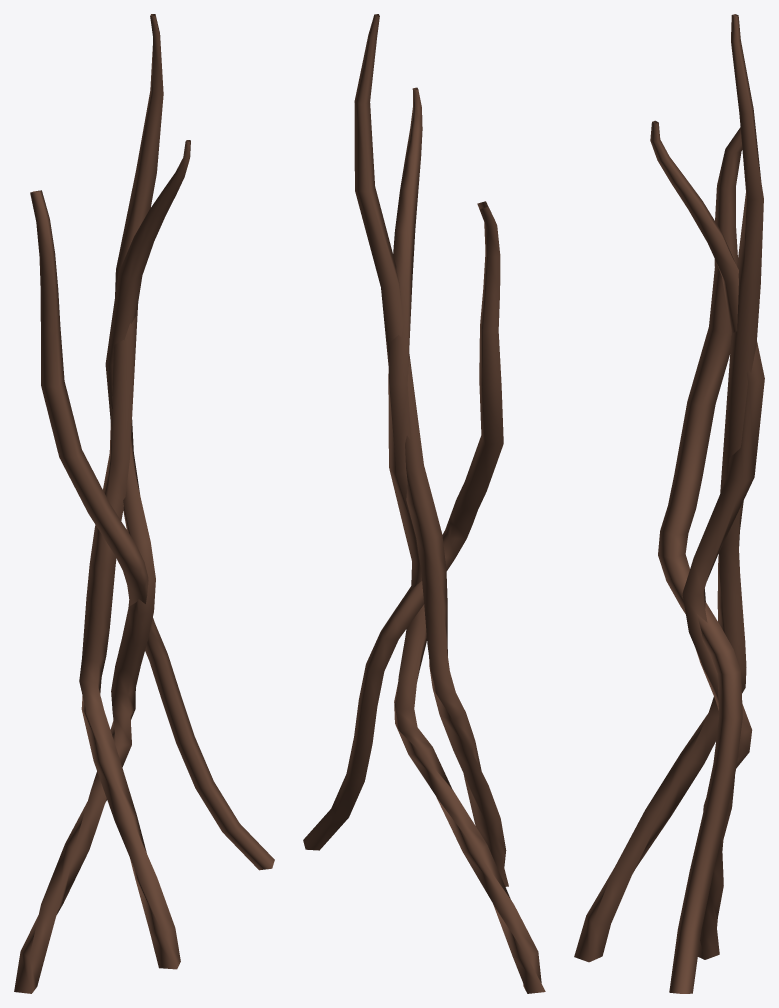
Rendered from Jungle_vines_01.fbx.
3 renders of one model, left to right at view 1: azimuth 30°, elevation 25°; view 2: azimuth 150°, elevation 25°; view 3: azimuth 270°, elevation 25°, orthographic. The views are drawn at different scales.
Parts seen in each view (by area): view 1: Vine_single_02, Vine_single_01, Vine_single_03; view 2: Vine_single_01, Vine_single_02, Vine_single_03; view 3: Vine_single_03, Vine_single_02, Vine_single_01.
Part boxes in pixels (box(x1,y1,x2,y2)): Vine_single_02: box(79, 14, 180, 969); Vine_single_01: box(14, 140, 190, 993); Vine_single_03: box(30, 190, 274, 870); Vine_single_01: box(388, 87, 545, 993); Vine_single_02: box(354, 14, 508, 886); Vine_single_03: box(303, 201, 503, 850); Vine_single_03: box(658, 127, 742, 993); Vine_single_02: box(574, 14, 763, 962); Vine_single_01: box(650, 120, 764, 959).
Size of the model in its own units: 3.29 by 11.74 by 2.
